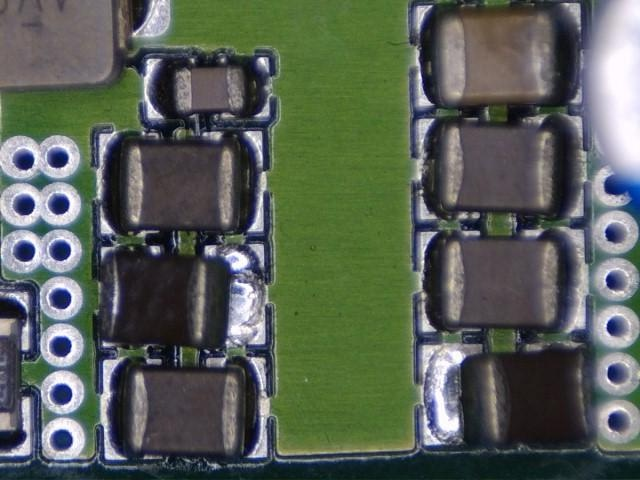pcb_defect: (418, 342, 596, 449), (99, 243, 267, 349)
